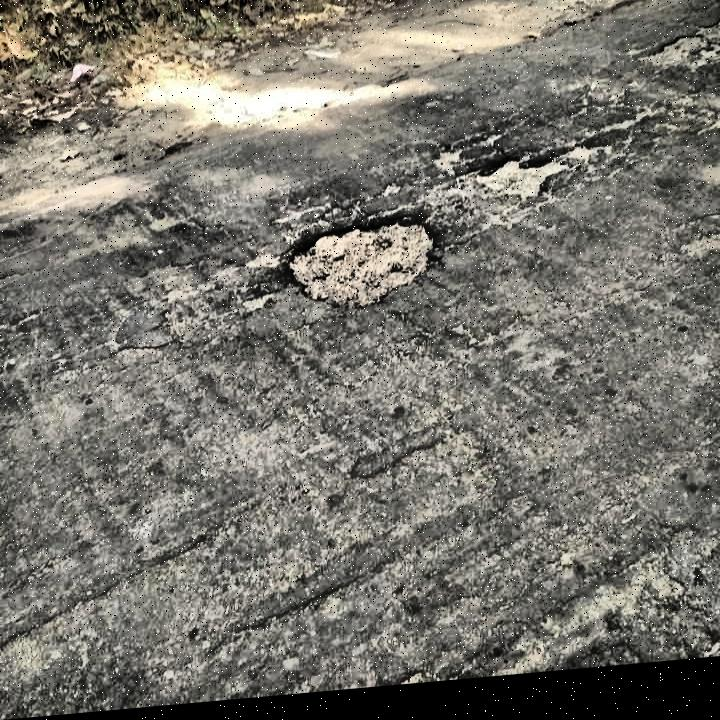pothole: (282, 216, 438, 321), (472, 159, 570, 214)
